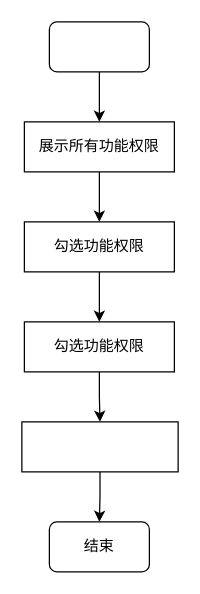
This 200x594 diagram has some shape labels left out. Here are the shapes that lost their labels. From the top down, the centre of each, then its label:
point 98,46: 开始
point 99,446: 展示已勾选功能权限
